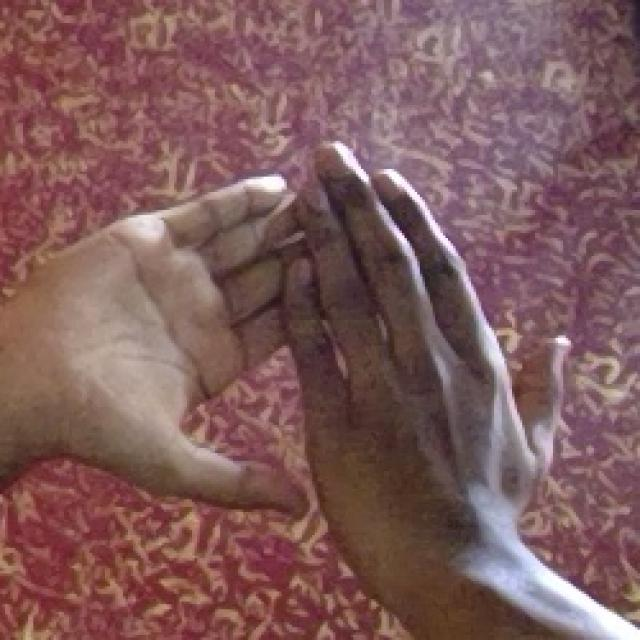Alphabet-H: (25, 134, 577, 563)
